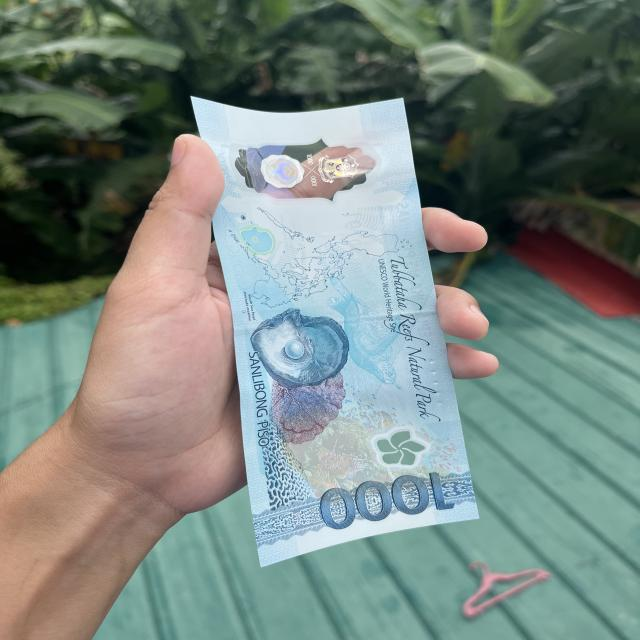clear_window: (199, 125, 419, 214)
sampaguita: (371, 426, 432, 467)
security_thread: (231, 293, 440, 326)
